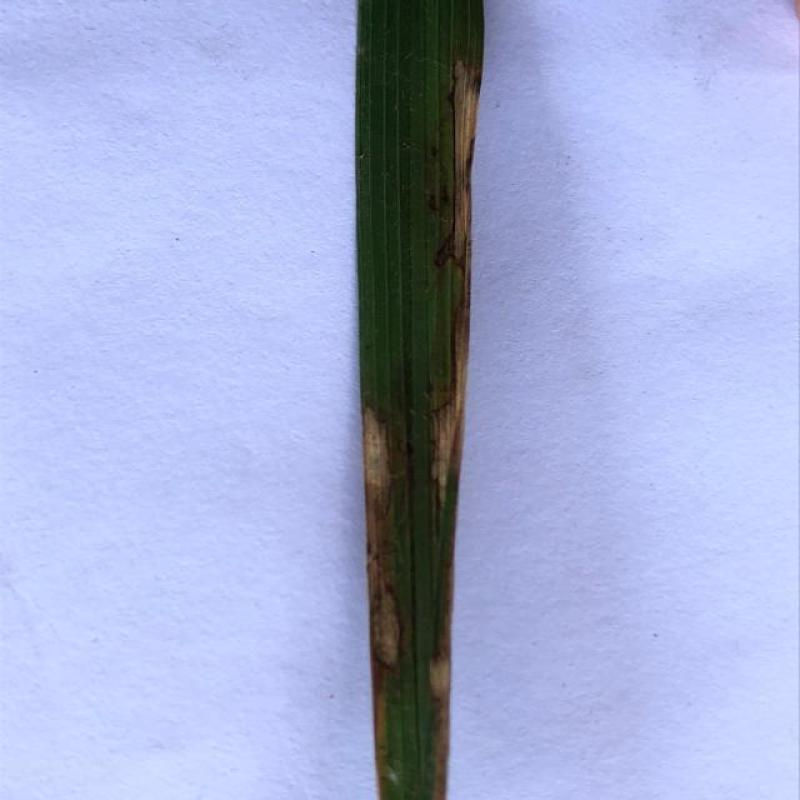Bacterial_Leaf_Blight: (338, 0, 484, 800)
